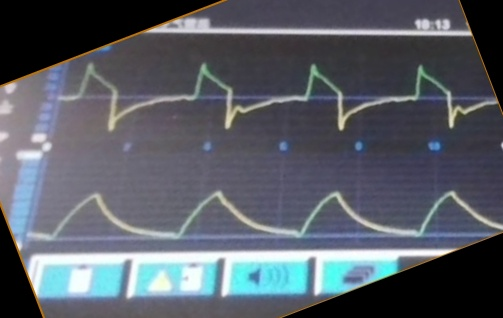Premature_cycling Flow: (73, 59, 480, 131)
Premature_cycling Volume: (49, 181, 482, 241)
